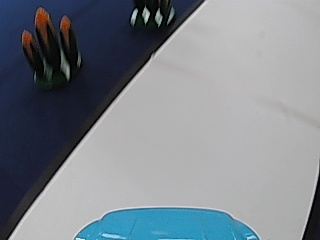corn: (23, 7, 82, 92), (127, 0, 173, 31)
